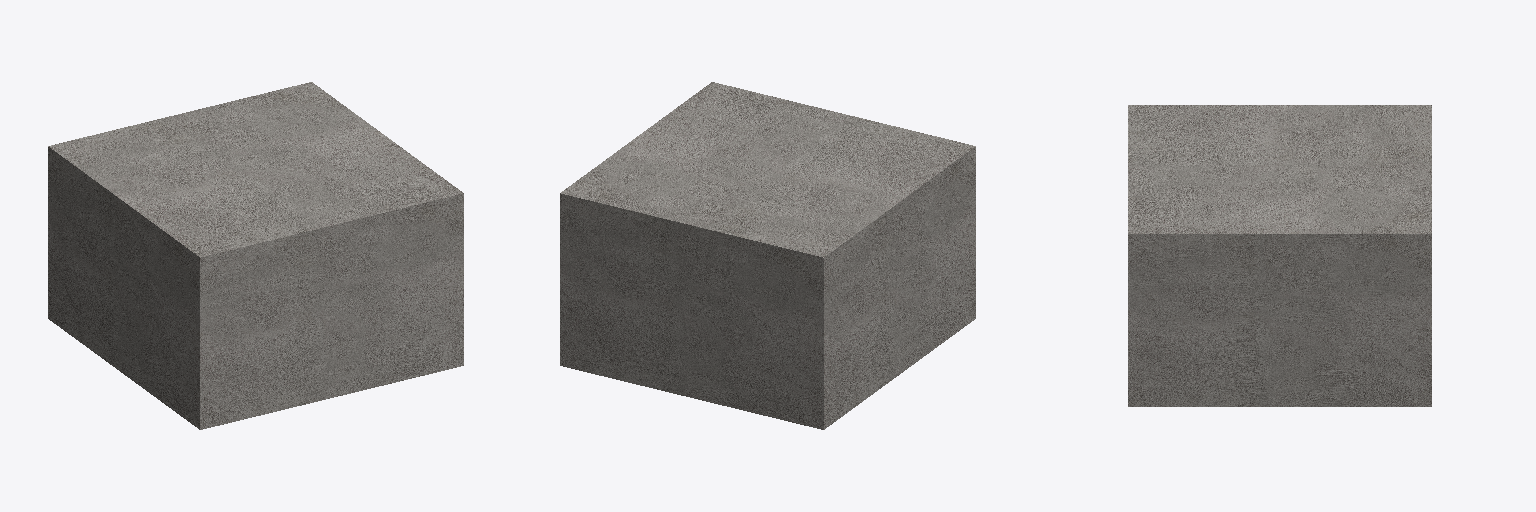
3 views of the same model, side by side, from view 1: azimuth 30°, elevation 25°; view 2: azimuth 150°, elevation 25°; view 3: azimuth 270°, elevation 25° (orthographic).
Visible parts, largest first — view 1: 4x4x2,5.001; view 2: 4x4x2,5.001; view 3: 4x4x2,5.001.
Boxes of the visible parts, x1=… form: 4x4x2,5.001: x1=48, y1=82, x2=463, y2=429; 4x4x2,5.001: x1=560, y1=82, x2=975, y2=429; 4x4x2,5.001: x1=1128, y1=105, x2=1431, y2=406.
Size of the model in its own units: 4 by 2.5 by 4.
1 materials, 1 textured.